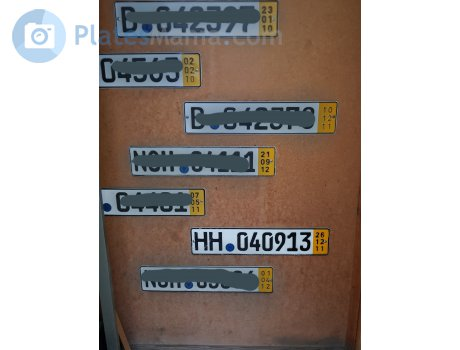License Plates: (194, 228, 312, 252)
